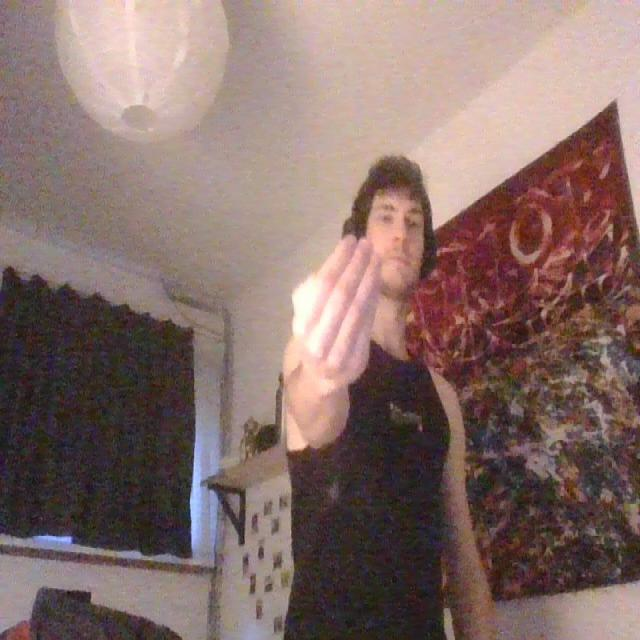forward: (284, 230, 385, 388)
